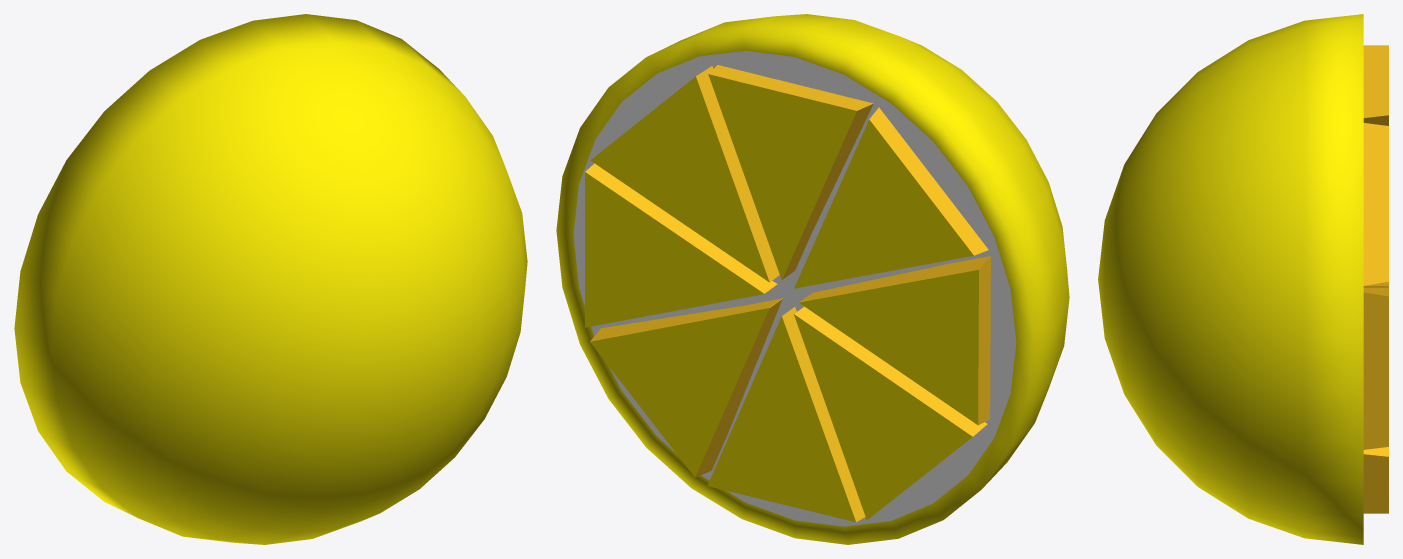
The model's file is Lemon.fbx.
The picture shows the model from 3 angles, left to right: view 1: azimuth 30°, elevation 25°; view 2: azimuth 150°, elevation 25°; view 3: azimuth 270°, elevation 25°; orthographic projection. The views are drawn at different scales.
Parts seen in each view (by area): view 1: Lemon; view 2: Lemon; view 3: Lemon.
Boxes of the visible parts, x1=… form: Lemon: x1=14, y1=14, x2=527, y2=544; Lemon: x1=556, y1=14, x2=1069, y2=544; Lemon: x1=1098, y1=14, x2=1388, y2=544.
Size of the model in its own units: 200 by 200 by 110.
1 material, 1 textured.
